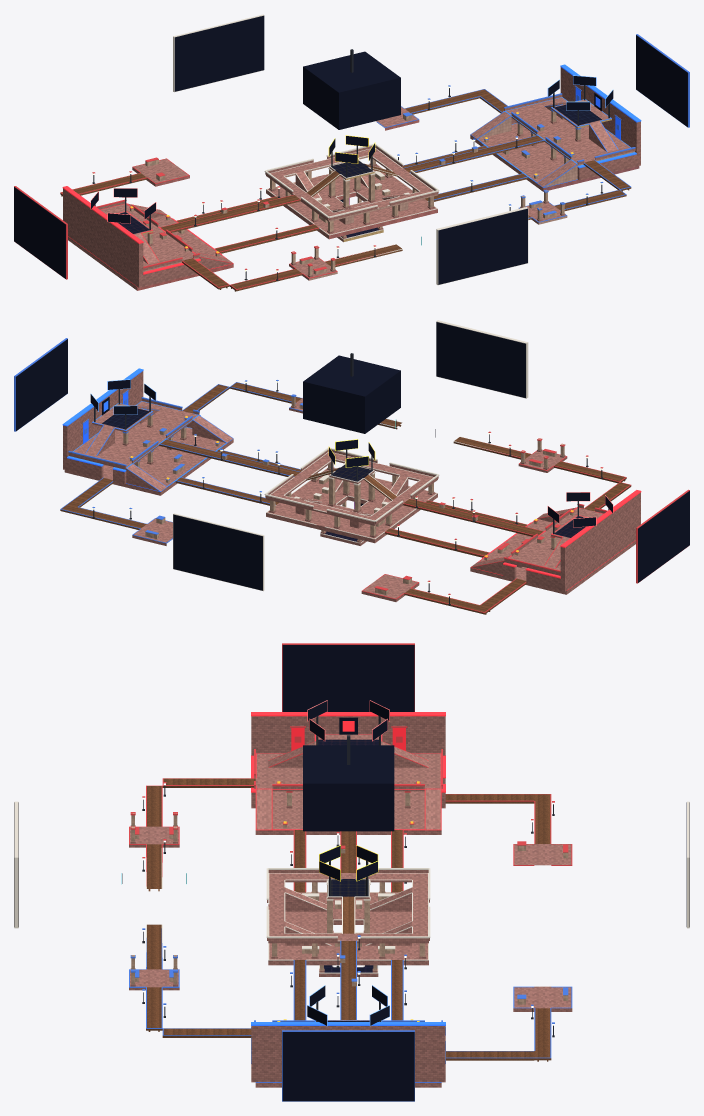
The model's file is skyreach_map_v16.glb.
3 renders of one model, top to bottom at view 1: azimuth 30°, elevation 25°; view 2: azimuth 150°, elevation 25°; view 3: azimuth 270°, elevation 25°, orthographic. The views are drawn at different scales.
Parts seen in each view (by area): view 1: skyreach_map_v16; view 2: skyreach_map_v16; view 3: skyreach_map_v16.
Part boxes in pixels (x1=…): skyreach_map_v16: x1=14, y1=14, x2=689, y2=291; skyreach_map_v16: x1=14, y1=320, x2=689, y2=614; skyreach_map_v16: x1=14, y1=643, x2=689, y2=1101.
Bounding box in the file's own units: 218 × 59.62 × 160.
Materials: 30 (14 with a texture image).
